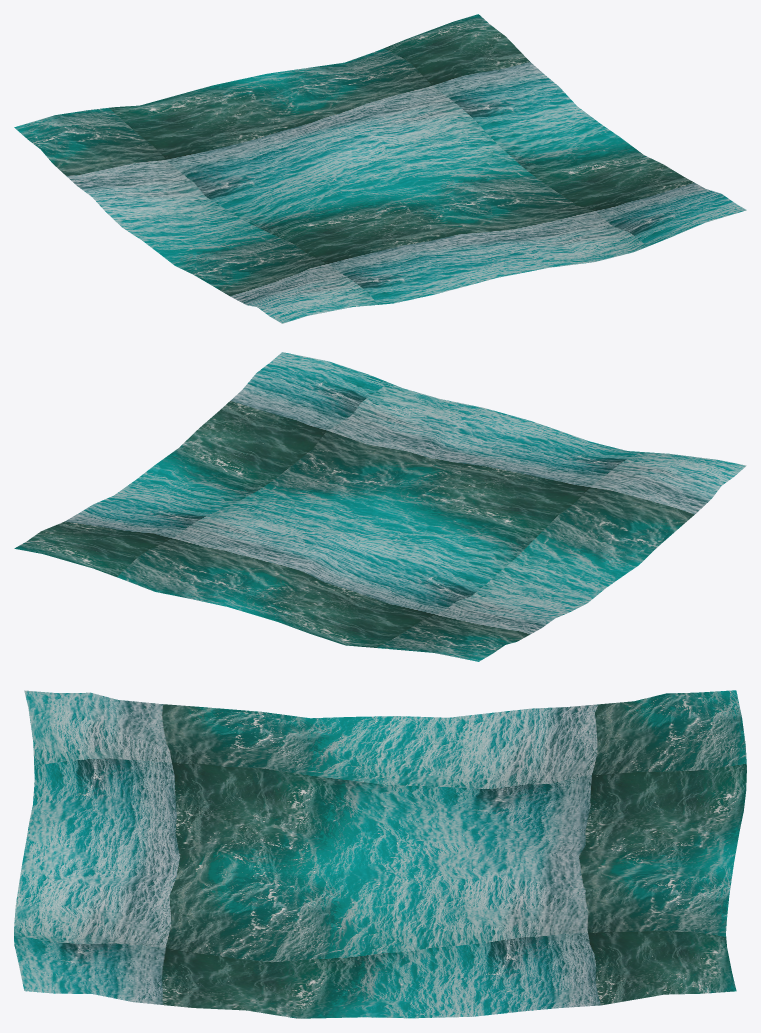
File: Water.dae
The picture shows the model from 3 angles, top to bottom: view 1: azimuth 30°, elevation 25°; view 2: azimuth 150°, elevation 25°; view 3: azimuth 270°, elevation 25°; orthographic projection. The views are drawn at different scales.
Visible parts, largest first — view 1: Sea; view 2: Sea; view 3: Sea.
Part boxes in pixels (<box>): Sea: <box>14,14,746,323</box>; Sea: <box>14,352,746,661</box>; Sea: <box>14,690,746,1018</box>.
Size of the model in its own units: 711 by 730 by 39.66.
Materials: 1 (1 with a texture image).
